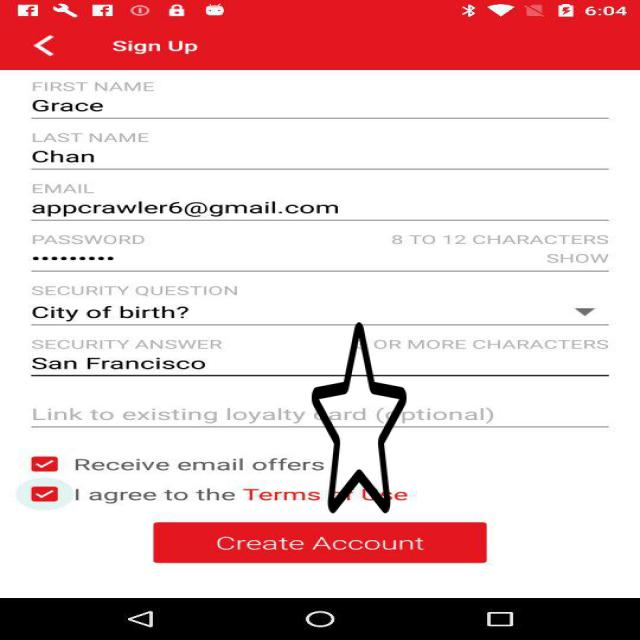forced continuity: (312, 318, 406, 517)
